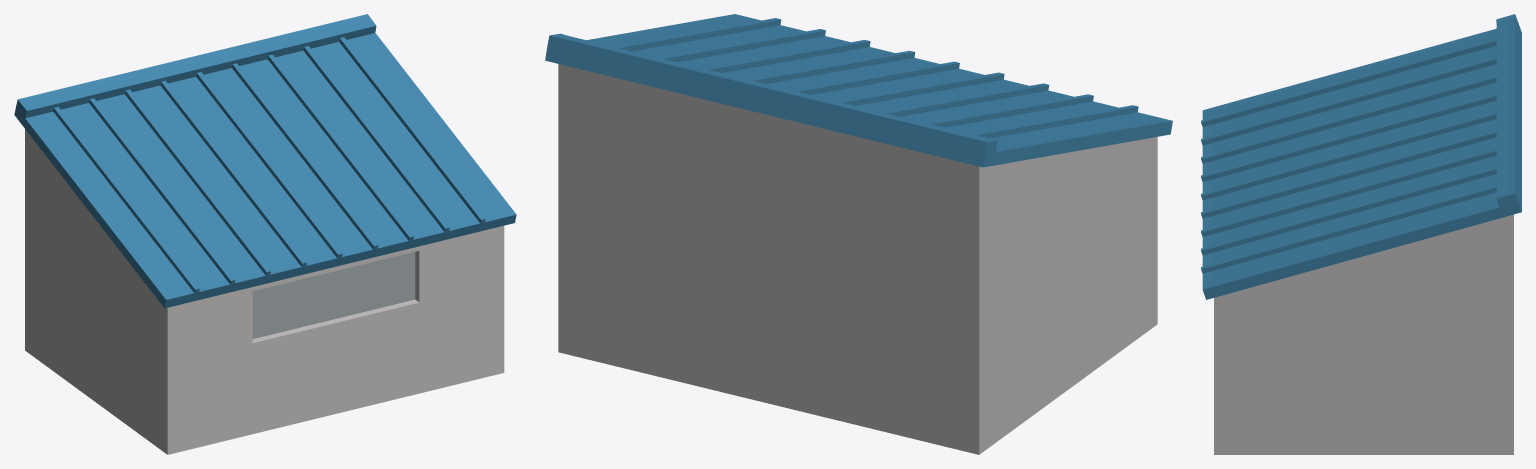
The model's file is roof2.fbx.
3 renders of one model, left to right at view 1: azimuth 30°, elevation 25°; view 2: azimuth 150°, elevation 25°; view 3: azimuth 270°, elevation 25°, orthographic. The views are drawn at different scales.
Visible parts, largest first — view 1: polySurface43, polySurface45, pCube52, polySurface46; view 2: polySurface45, polySurface43, pCube52; view 3: polySurface45, polySurface43, pCube52.
Boxes of the visible parts, <box> form: polySurface43: <box>14,14,516,308</box>; polySurface45: <box>25,129,504,454</box>; pCube52: <box>53,37,485,293</box>; polySurface46: <box>252,252,415,338</box>; polySurface45: <box>558,64,1157,454</box>; polySurface43: <box>545,14,1172,167</box>; pCube52: <box>613,18,1138,138</box>; polySurface45: <box>1214,214,1513,454</box>; polySurface43: <box>1202,14,1521,299</box>; pCube52: <box>1201,38,1496,273</box>.
Size of the model in its own units: 39.22 by 26.99 by 29.61.
